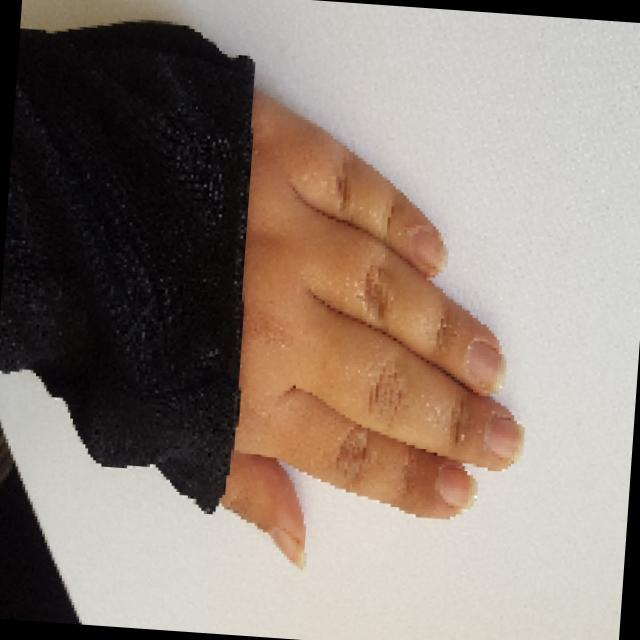Nail: (466, 340, 507, 390), (484, 415, 524, 460), (434, 466, 477, 507), (411, 229, 447, 269), (272, 528, 306, 567)
